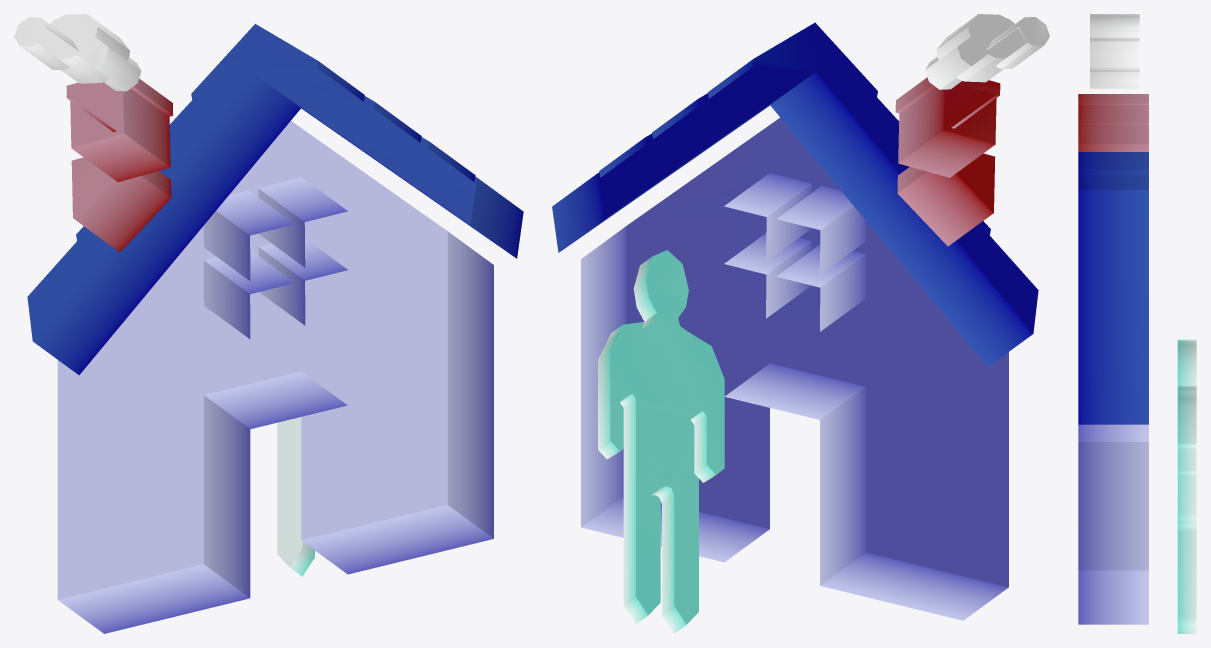
File: ps2_save-icons_thesimsbustinout.glb
3 views of the same model, side by side, from view 1: azimuth 30°, elevation 25°; view 2: azimuth 150°, elevation 25°; view 3: azimuth 270°, elevation 25° (orthographic). The views are drawn at different scales.
Parts seen in each view (by area): view 1: saveicon.ico; view 2: saveicon.ico; view 3: saveicon.ico.
Part boxes in pixels (left/top/right/bottom): saveicon.ico: left=14, top=14, right=523, bottom=633; saveicon.ico: left=552, top=14, right=1049, bottom=633; saveicon.ico: left=1078, top=14, right=1196, bottom=633.
Size of the model in its own units: 3.77 by 5 by 1.08.
Materials: 1 (1 with a texture image).
